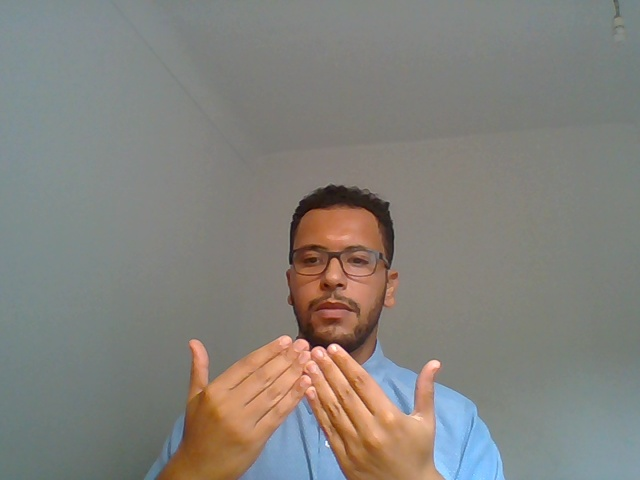thanks: (142, 321, 494, 480)
